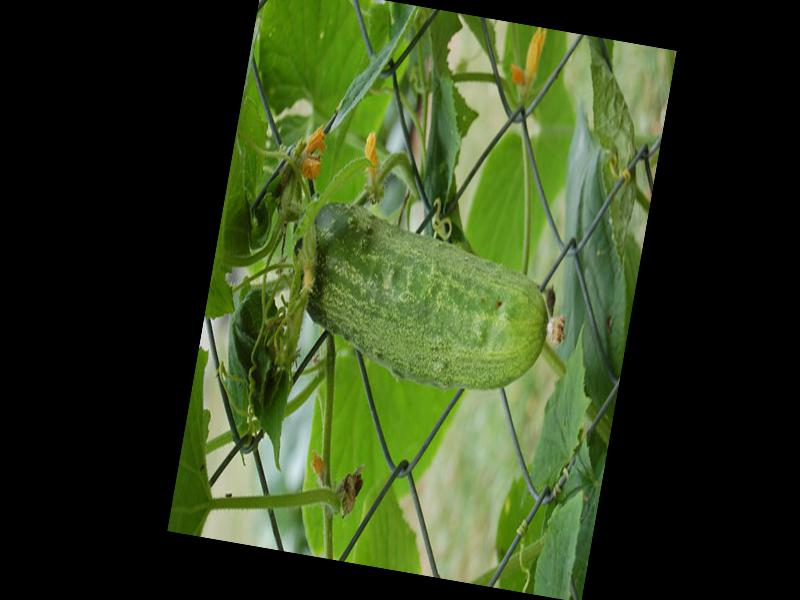Cucumber: (278, 200, 577, 402)
